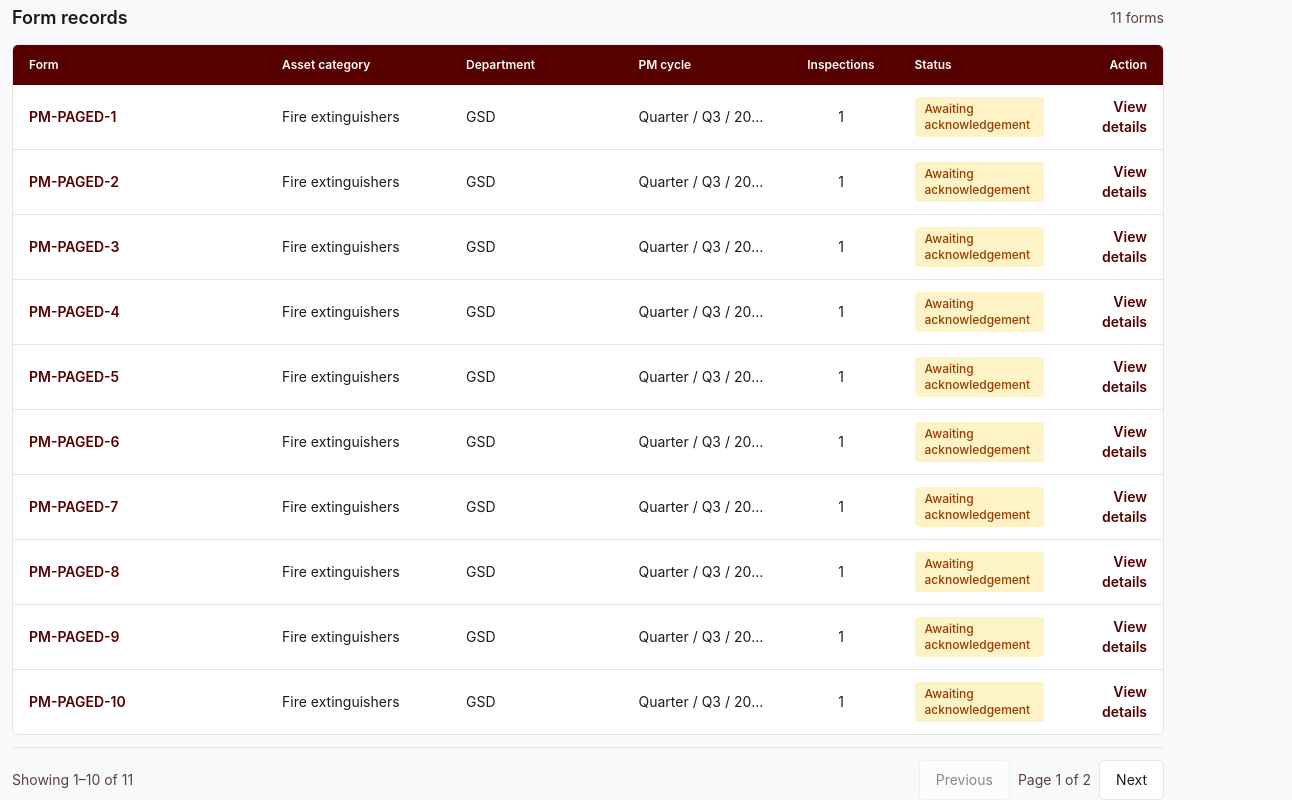
Test case: preventive-maintenance form review › requests and renders server-paged forms without slicing the response
The width and height of the screenshot is (1292, 800).
(page scrolled)
Expected: the link "PM-PAGED-1" is shown, [29, 108, 116, 125]
Expected: the navigation bar named "Form review pagination" shows "Showing 1–10 of 11", [12, 747, 1164, 799]
Click the button "Next".
click(1132, 780)  # box [1099, 760, 1164, 799]
(page scrolled)
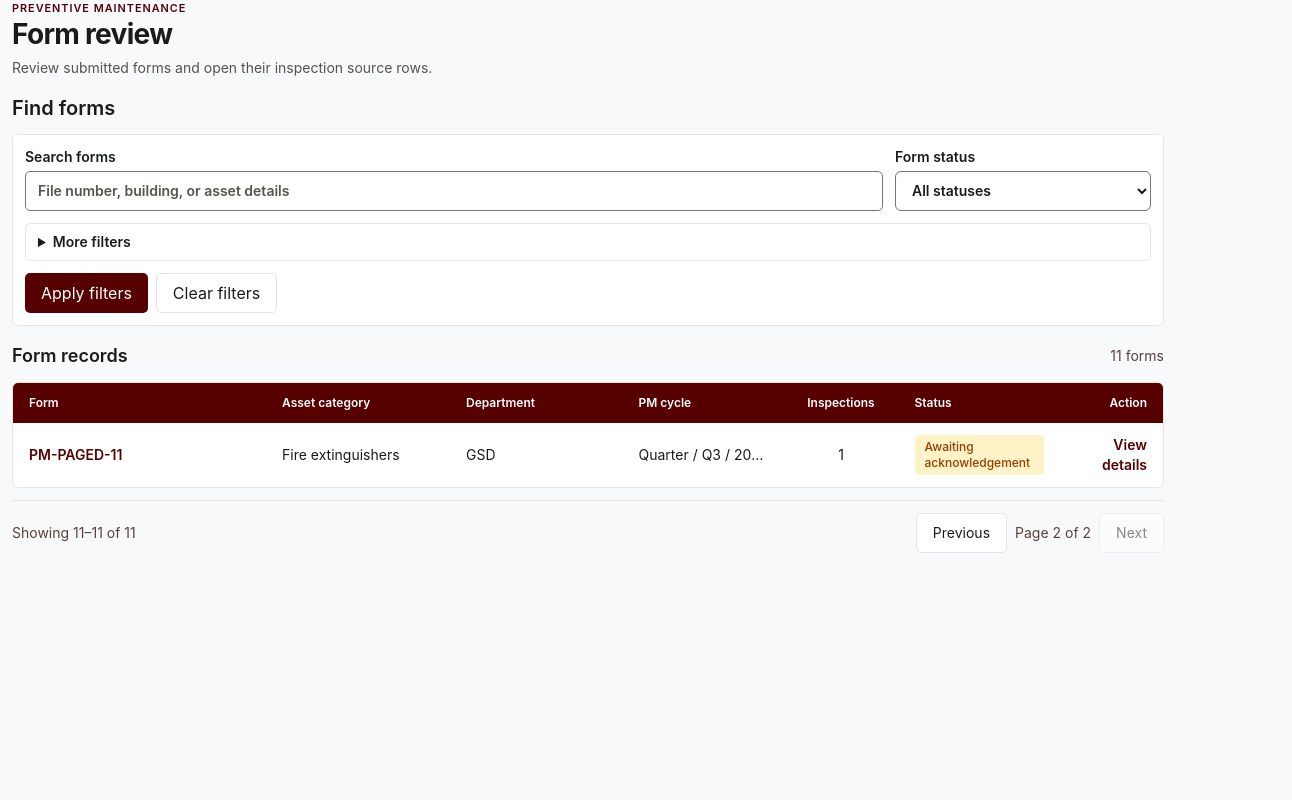
Expected: the link "PM-PAGED-11" is shown, [29, 446, 122, 463]
Expected: the navigation bar named "Form review pagination" shows "Showing 11–11 of 11", [12, 500, 1164, 553]
Expected: the navigation bar named "Form review pagination" shows "Page 2 of 2", [12, 500, 1164, 553]
